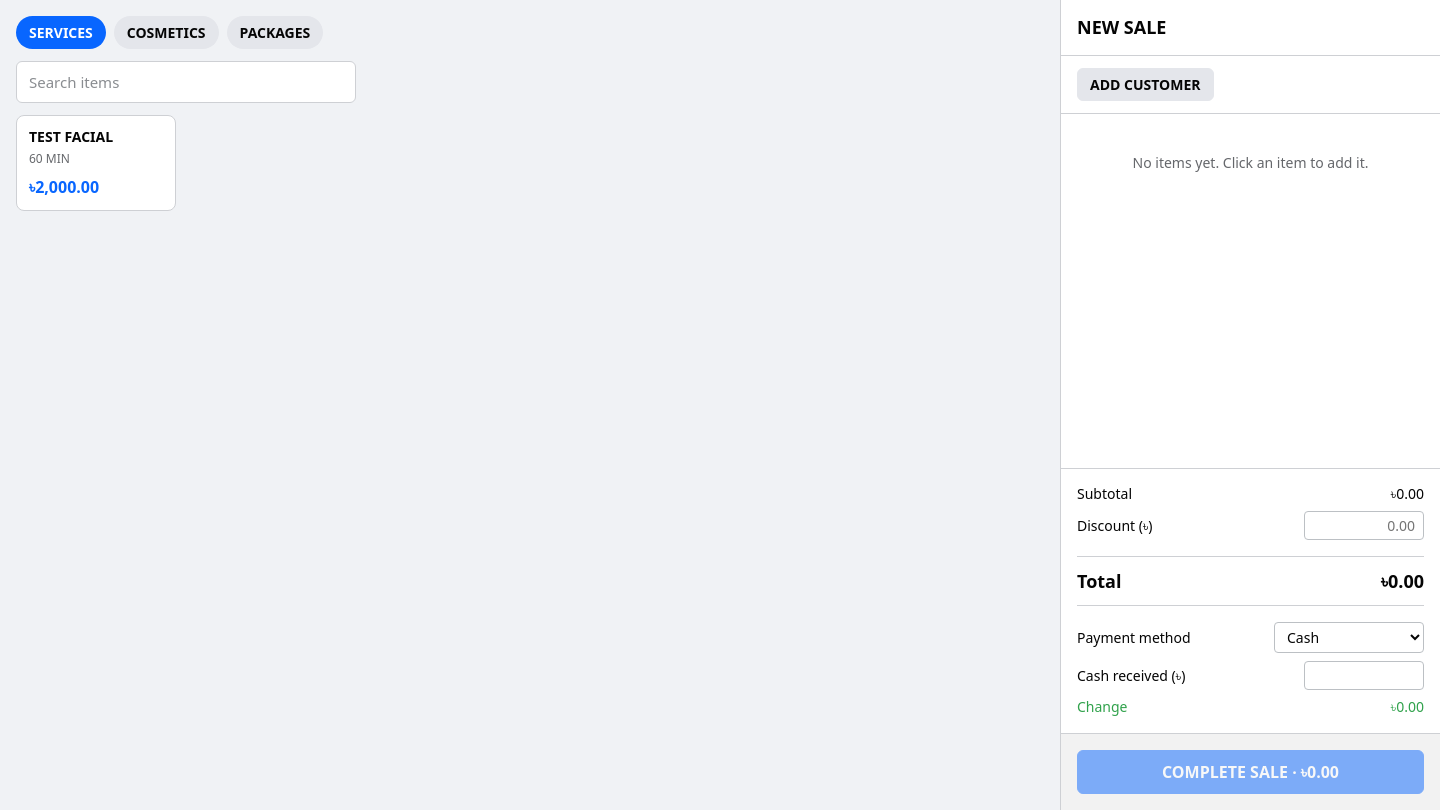
Test: NewSalePage › increments quantity when adding the same item twice
Click the text "Test Facial".
click(71, 137)  # box [29,128,113,146]
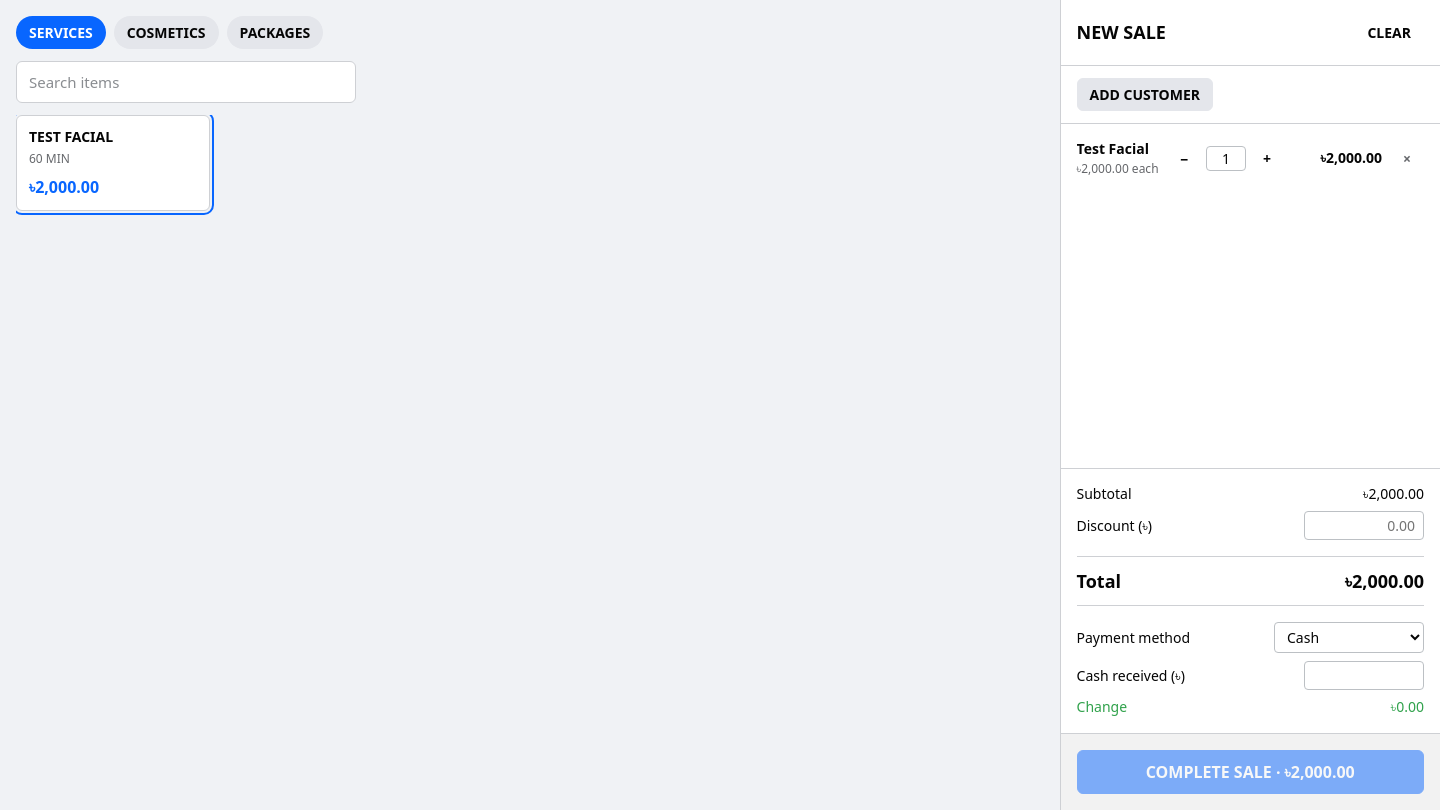
Note: Click the same item again to increment quantity
Click the 1st text "Test Facial".
click(71, 137)  # box [29,128,113,146]
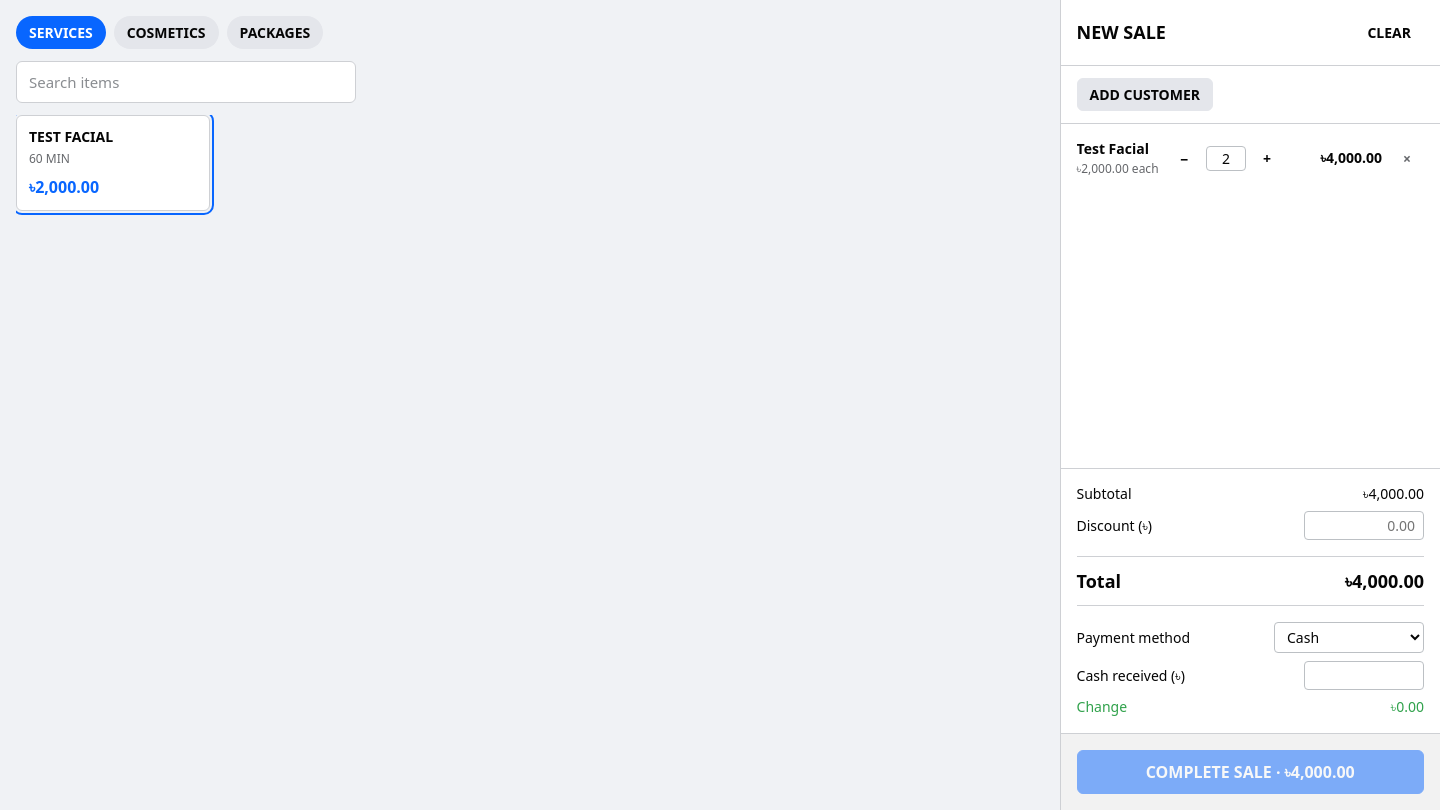
Expected: the number field named "quantity of test facial" holds "2", [1206,146,1246,171]
